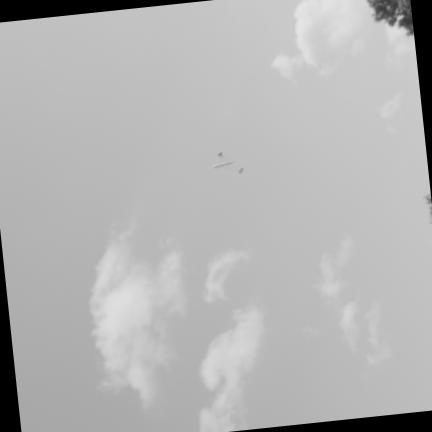Shahed: (213, 151, 243, 171)
